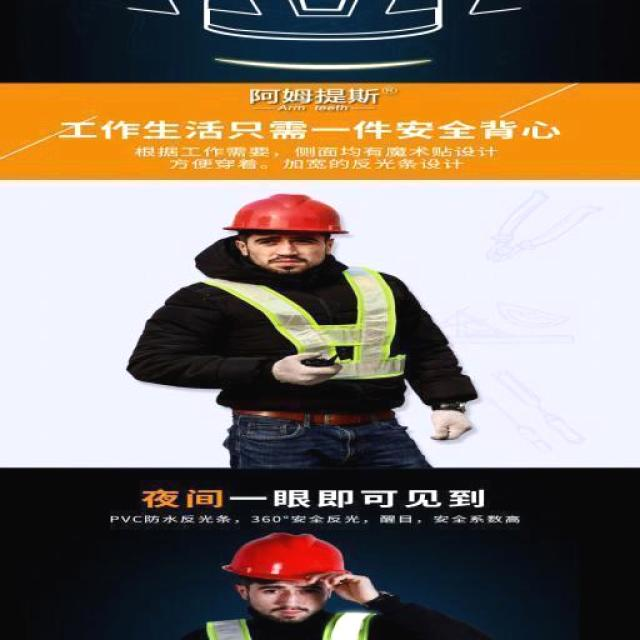face_nomask: (249, 226, 323, 274), (256, 576, 326, 622)
hand_glove: (269, 345, 341, 391), (424, 403, 476, 449)
hand_noglove: (301, 564, 379, 610)
head_helmet: (215, 532, 359, 586), (218, 192, 361, 236)
person: (134, 187, 486, 464)
vest: (194, 267, 438, 384)
